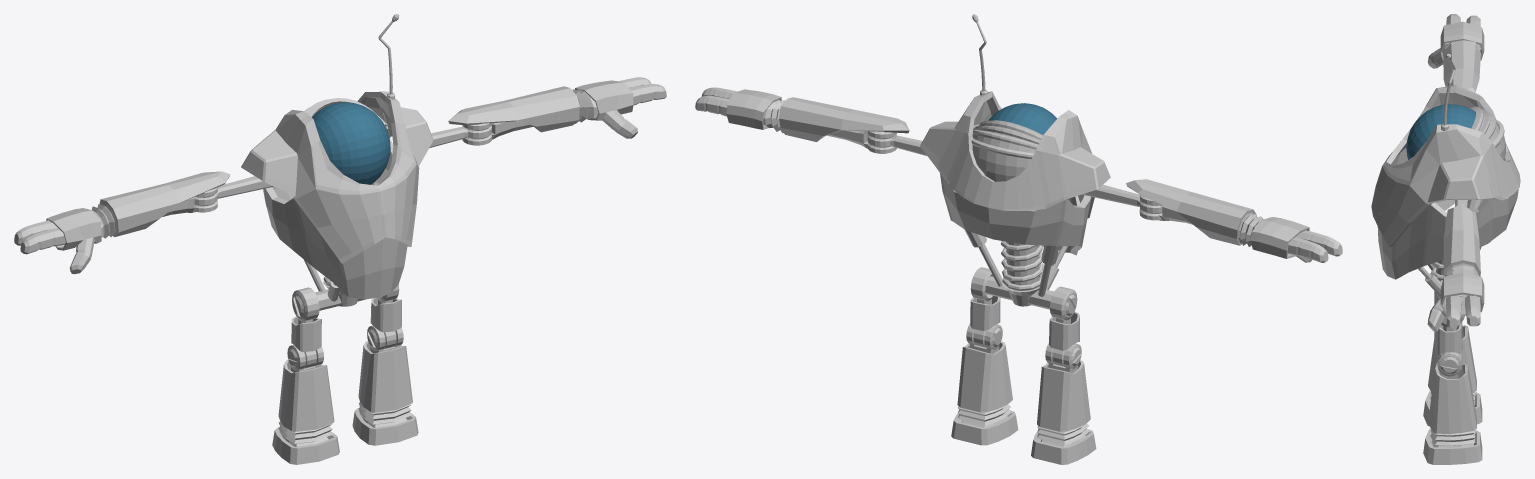
The model's file is Hugin.obj.
The picture shows the model from 3 angles, left to right: view 1: azimuth 30°, elevation 25°; view 2: azimuth 150°, elevation 25°; view 3: azimuth 270°, elevation 25°; orthographic projection. The views are drawn at different scales.
Parts seen in each view (by area): view 1: Hugin kropp, Hugin huvud; view 2: Hugin kropp, Hugin huvud; view 3: Hugin kropp, Hugin huvud.
Boxes of the visible parts, left/top/right/bottom form: Hugin kropp: left=14, top=14, right=666, bottom=464; Hugin huvud: left=312, top=102, right=390, bottom=184; Hugin kropp: left=695, top=14, right=1342, bottom=464; Hugin huvud: left=988, top=103, right=1057, bottom=134; Hugin kropp: left=1371, top=14, right=1520, bottom=464; Hugin huvud: left=1406, top=104, right=1475, bottom=159.
Bounding box in the file's own units: 261 × 162 × 54.04.
